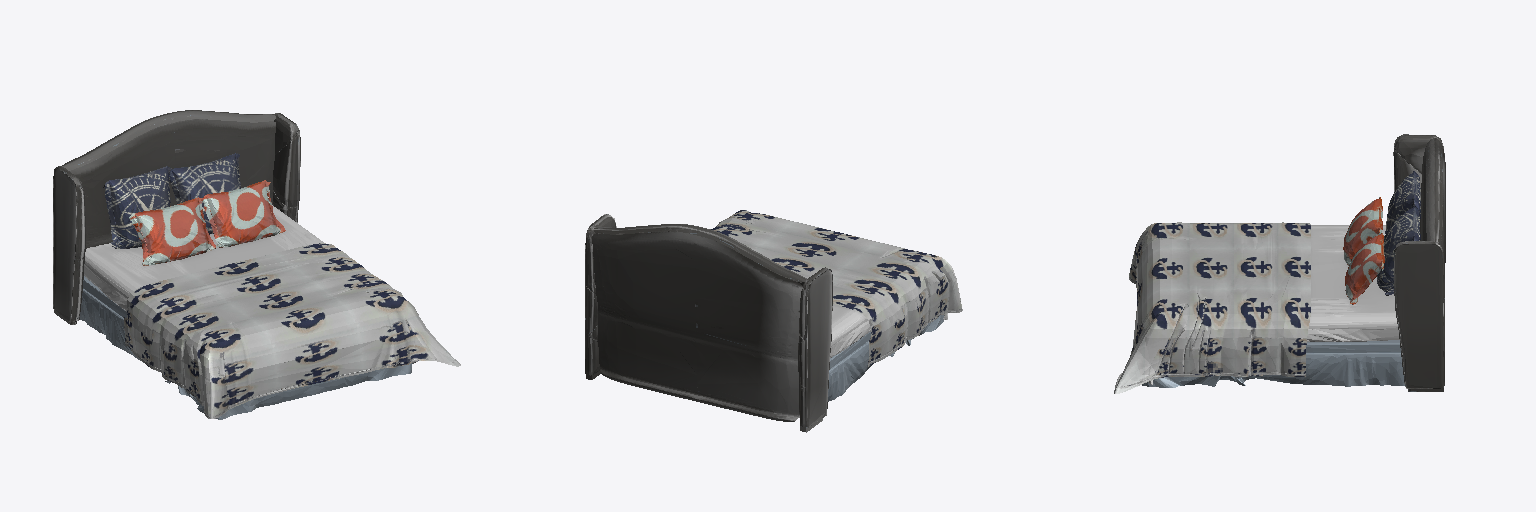
The picture shows the model from 3 angles: view 1: azimuth 30°, elevation 25°; view 2: azimuth 150°, elevation 25°; view 3: azimuth 270°, elevation 25°; orthographic projection.
Parts seen in each view (by area): view 1: solid_001, glass_001, solid_006, solid_004, solid_005, solid_003; view 2: glass_001, solid_001, solid_003, solid_004; view 3: solid_001, glass_001, solid_004, solid_003, solid_006, solid_005.
Part boxes in pixels (x1,y1,x2,y2): solid_001: (124, 243, 460, 418); glass_001: (53, 110, 300, 324); solid_006: (129, 180, 285, 265); solid_004: (84, 205, 415, 363); solid_005: (103, 153, 240, 248); solid_003: (80, 276, 412, 419); glass_001: (585, 214, 832, 432); solid_001: (711, 210, 962, 366); solid_003: (828, 315, 943, 401); solid_004: (830, 304, 947, 357); solid_001: (1114, 222, 1310, 393); glass_001: (1393, 134, 1445, 391); solid_004: (1149, 225, 1399, 384); solid_003: (1142, 340, 1404, 387); solid_006: (1343, 197, 1384, 304); solid_005: (1377, 171, 1420, 295).
Size of the model in its own units: 1.72 by 1.17 by 2.02.
Materials: 1 (1 with a texture image).